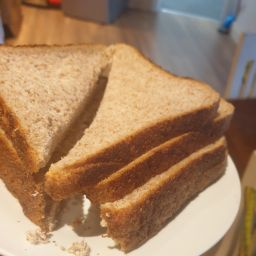Breads: (1, 38, 162, 256), (65, 44, 234, 250), (15, 133, 151, 256)
